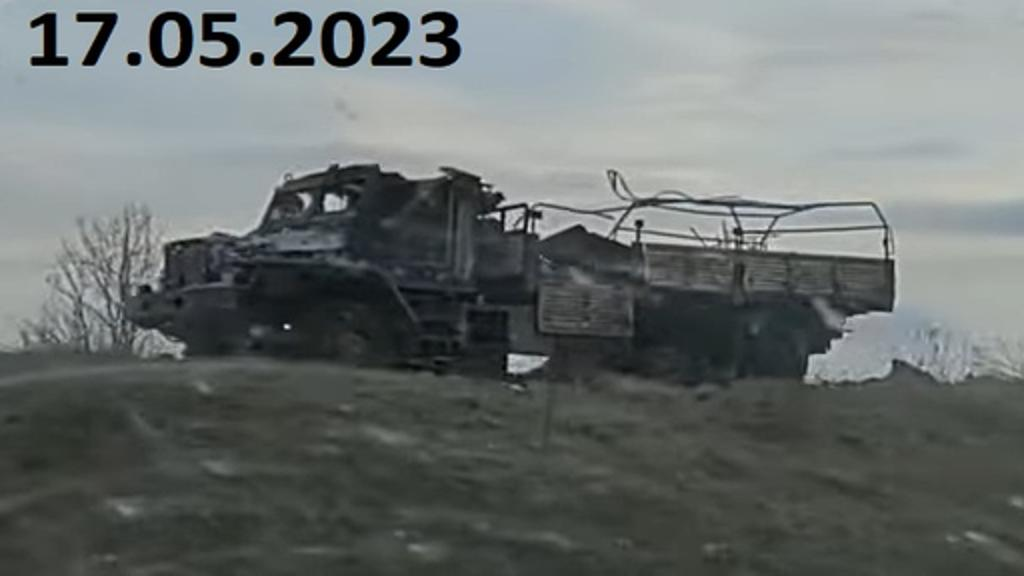TRUCK: (114, 150, 896, 398)
